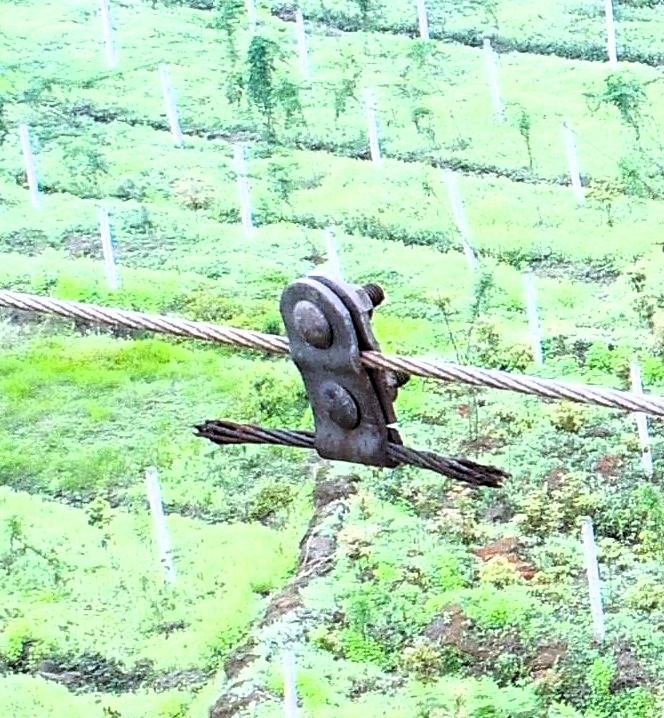Damage of shockproof hammer: (171, 264, 533, 514)
